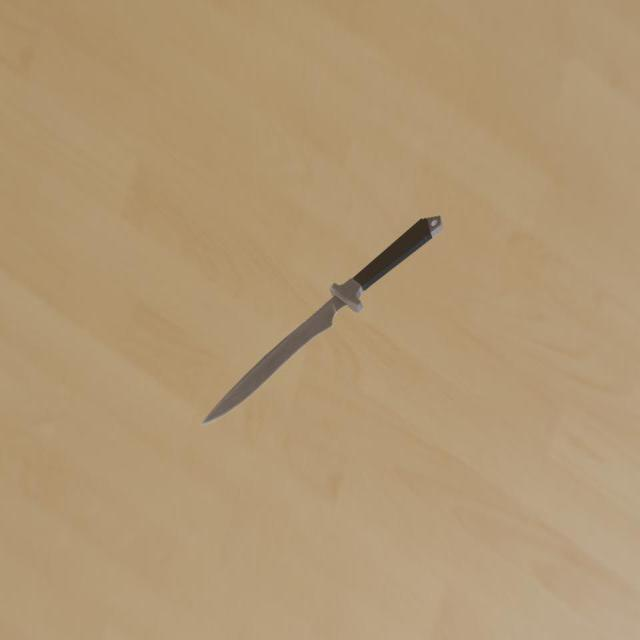knife: (352, 216, 442, 291)
